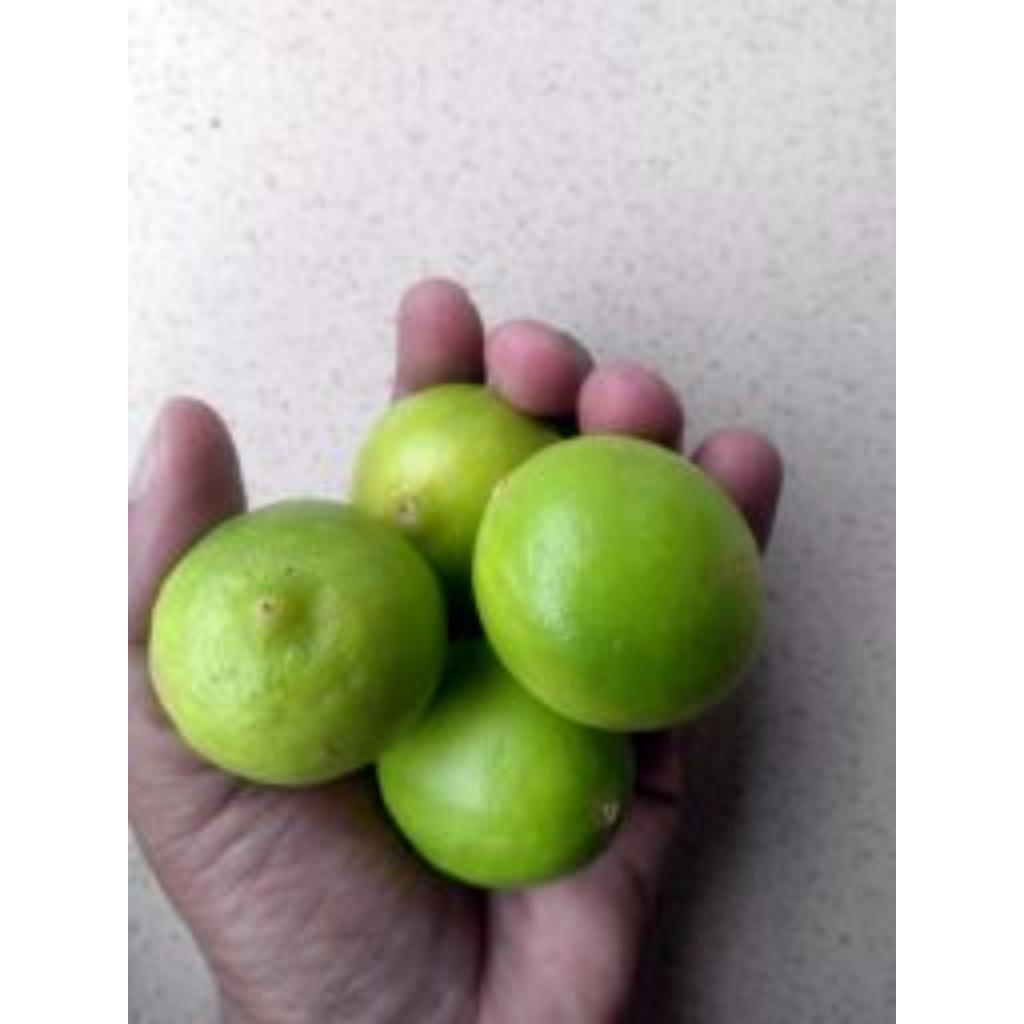lemon: (474, 436, 764, 731), (150, 500, 446, 785), (380, 642, 634, 887), (352, 384, 558, 583)
